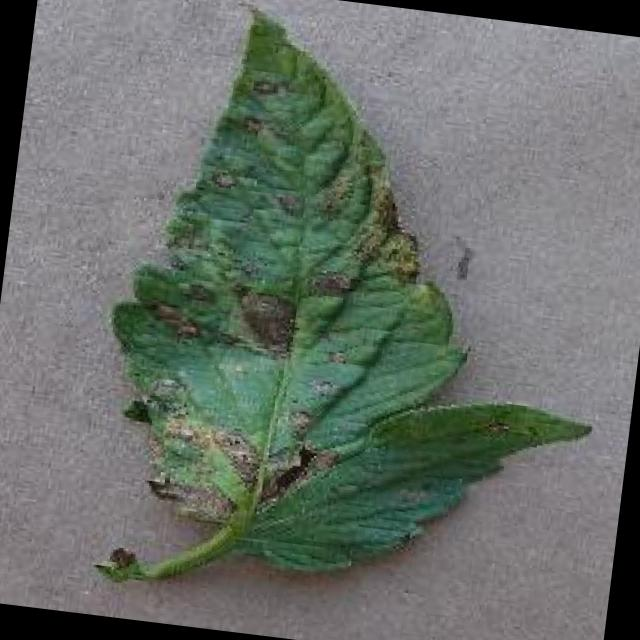Tomato_Early_Blight: (88, 0, 463, 546)
